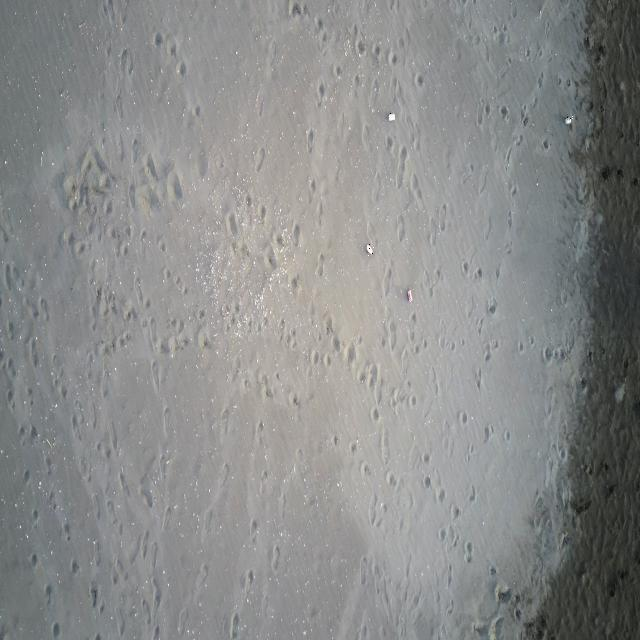tin-and-aluminum-cans: (365, 244, 374, 256), (564, 115, 573, 126), (407, 288, 413, 303), (387, 113, 396, 122)
